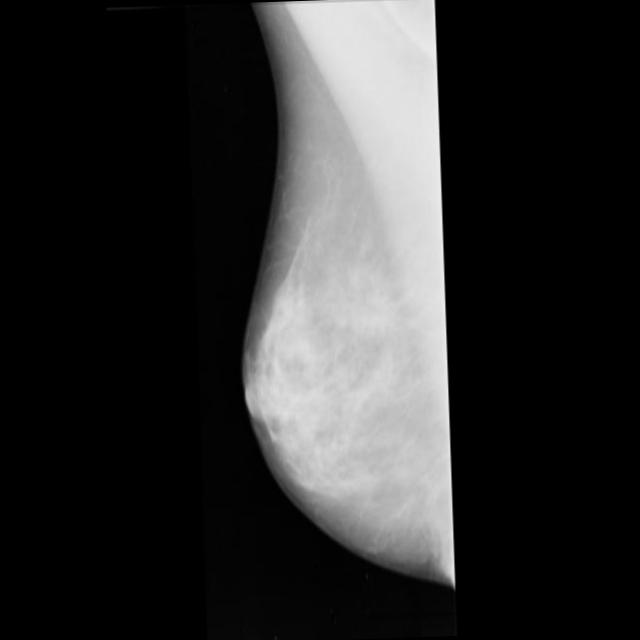SPIC: (345, 289, 398, 342)
